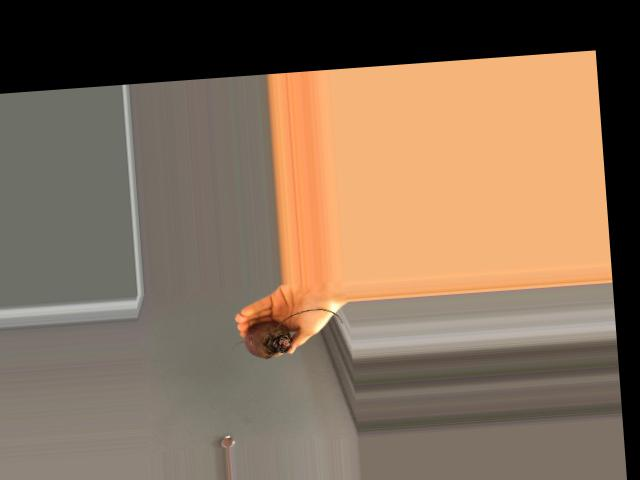beet: (229, 306, 343, 360)
